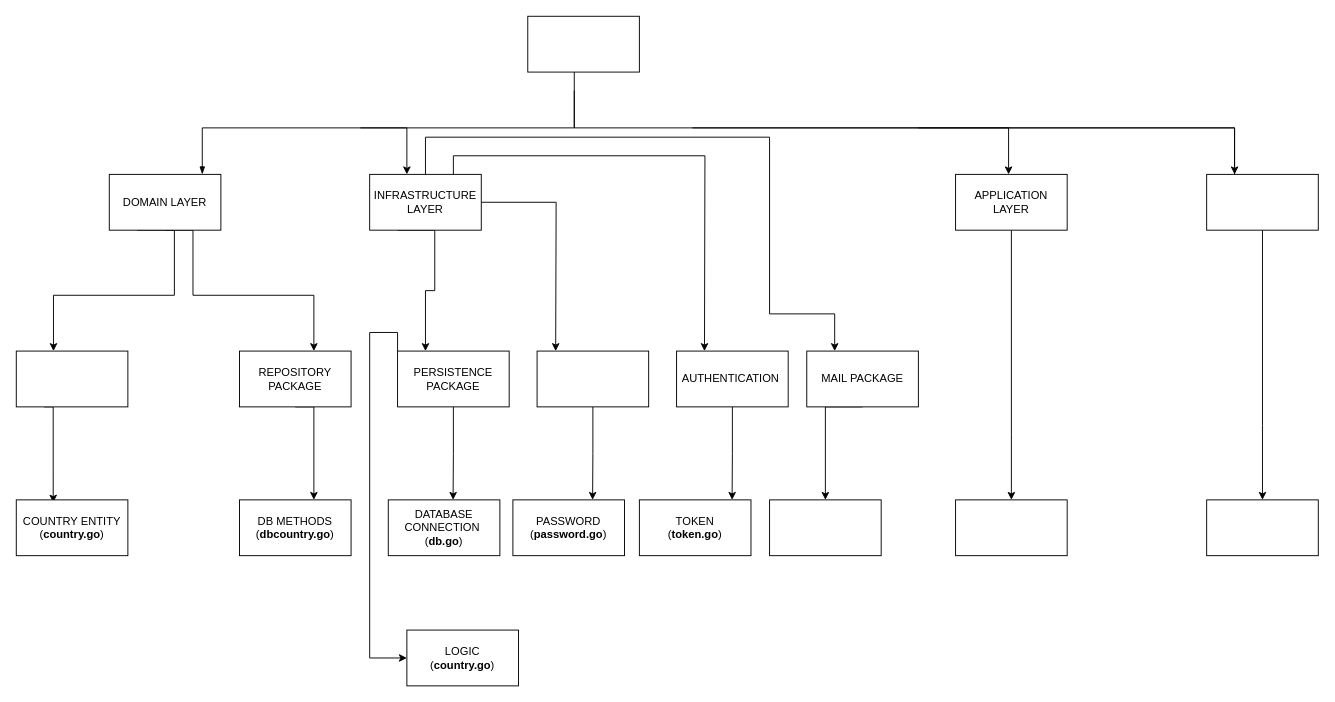
This 1335x702 diagram has some shape labels left out. The centre of each missing label's shape, as x and y in pixels:
"ASSIGN JOBS ( country.go )" belongs at pixel 1011 527.
"ENTITY PACKAGE" belongs at pixel 71 378.
"INTERFACE LAYER" belongs at pixel 1262 201.
"MAIL ( mail.go )" belongs at pixel 825 527.
"ROOT FOLDER" belongs at pixel 583 43.
"SECURITY PACKAGE" belongs at pixel 592 378.
